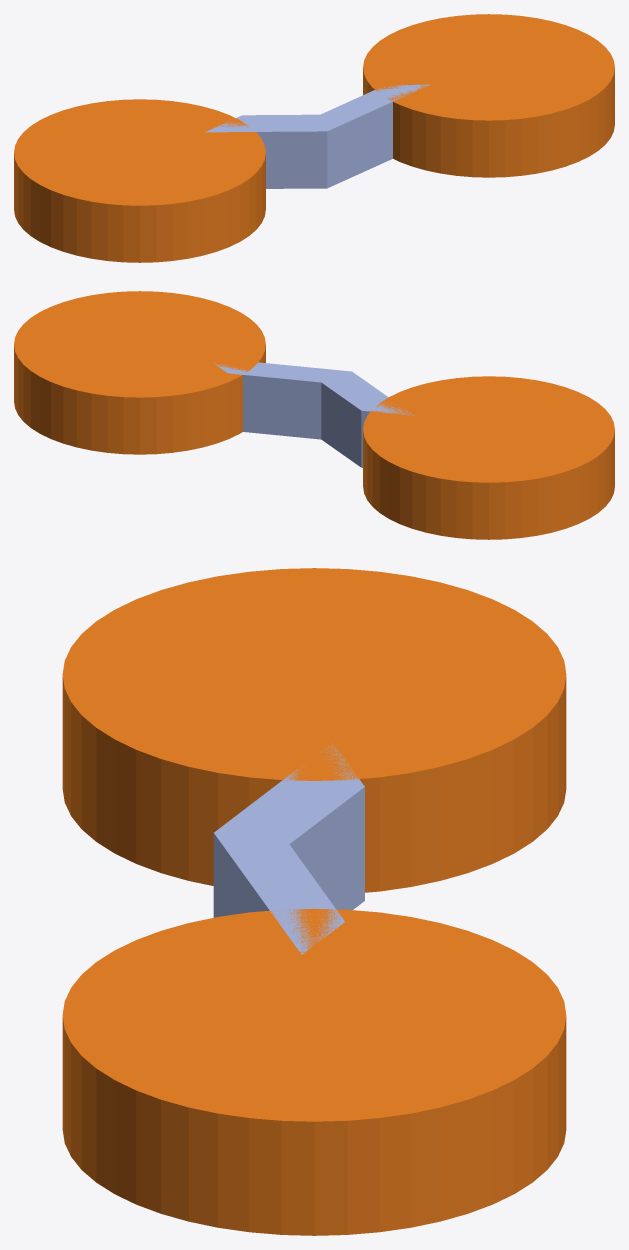
The model's file is nerdy glasses.obj.
3 views of the same model, one above another, from view 1: azimuth 30°, elevation 25°; view 2: azimuth 150°, elevation 25°; view 3: azimuth 270°, elevation 25° (orthographic). The views are drawn at different scales.
Visible parts, largest first — view 1: obj_0, obj_1, obj_2; view 2: obj_0, obj_1, obj_2; view 3: obj_1, obj_0, obj_2.
Boxes of the visible parts, x1=… form: obj_0: x1=14, y1=99, x2=265, y2=262; obj_1: x1=363, y1=14, x2=614, y2=177; obj_2: x1=205, y1=84, x2=429, y2=188; obj_0: x1=363, y1=376, x2=614, y2=539; obj_1: x1=14, y1=291, x2=265, y2=454; obj_2: x1=213, y1=362, x2=414, y2=467; obj_1: x1=62, y1=908, x2=566, y2=1235; obj_0: x1=62, y1=568, x2=566, y2=892; obj_2: x1=213, y1=743, x2=364, y2=954.
Size of the model in its own units: 52 by 5 by 20.
